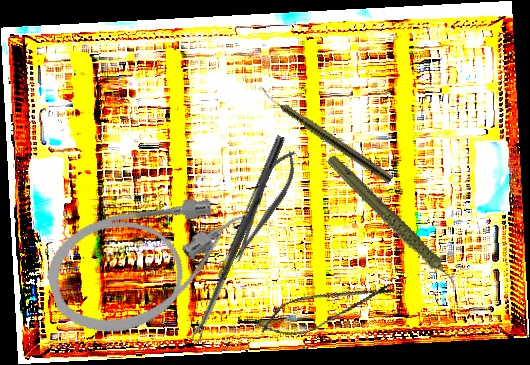Cannula: (35, 178, 268, 348)
Handpiece: (324, 134, 461, 315), (256, 85, 395, 185)
Micro Scissor: (255, 269, 399, 346)
Needle Holder: (222, 143, 306, 268)
Surgical Spoon: (189, 134, 286, 344)
